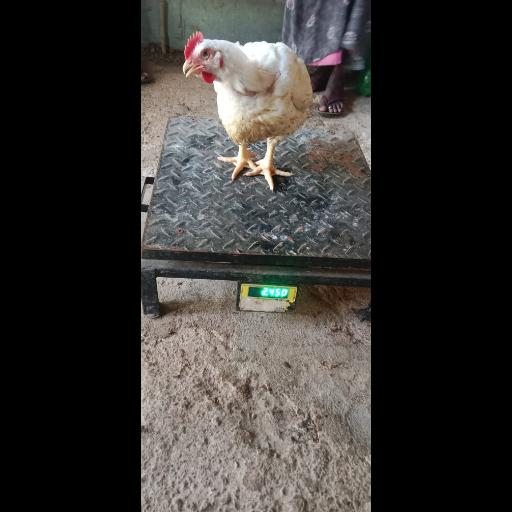chick: (183, 31, 312, 188)
